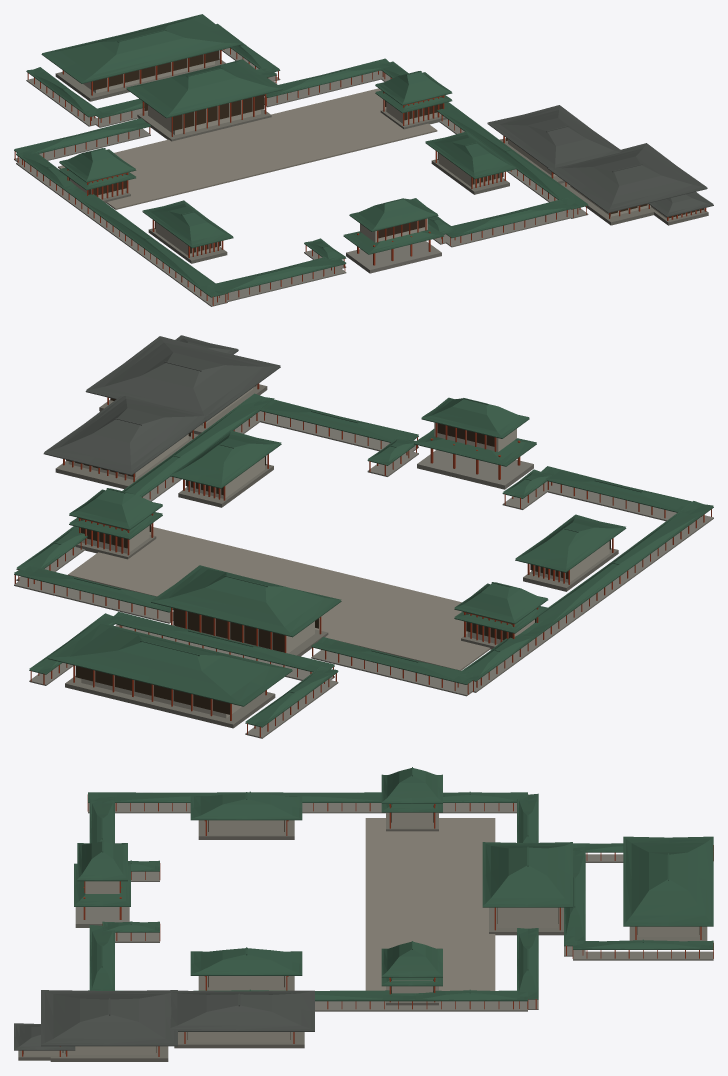
Rendered from heianShrine.glb.
3 renders of one model, top to bottom at view 1: azimuth 30°, elevation 25°; view 2: azimuth 150°, elevation 25°; view 3: azimuth 270°, elevation 25°, orthographic. The views are drawn at different scales.
Size of the model in its own units: 172 by 19.04 by 194.
